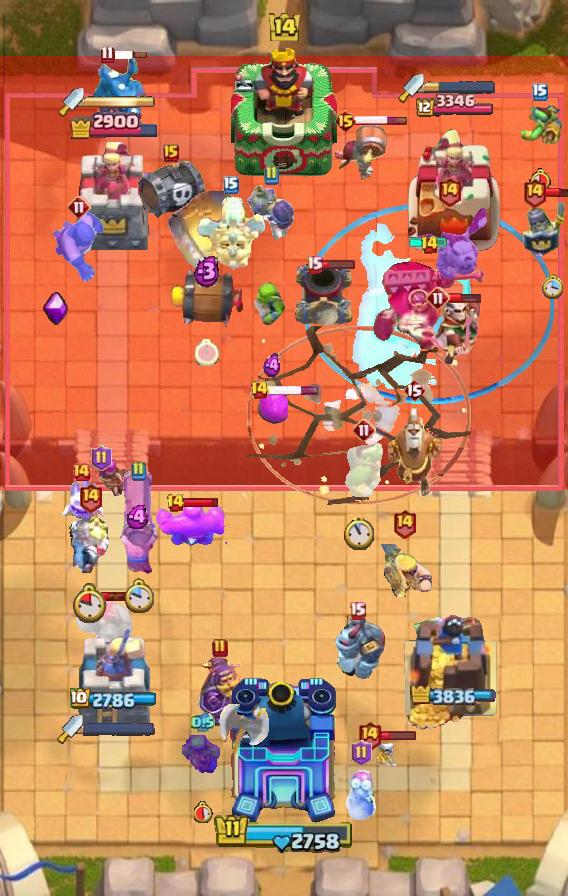archer: (90, 458, 136, 502)
axe: (218, 704, 270, 756)
bar: (354, 115, 408, 126), (267, 385, 320, 396), (380, 730, 417, 741), (183, 497, 220, 508), (448, 292, 481, 304), (320, 259, 356, 270), (100, 591, 135, 602), (112, 50, 148, 60), (544, 187, 568, 198)
bar-level: (357, 720, 382, 751), (392, 508, 417, 539), (78, 482, 103, 513), (522, 177, 547, 208), (437, 176, 462, 207), (352, 418, 376, 442), (426, 286, 450, 310), (67, 195, 91, 219), (334, 109, 357, 133), (351, 740, 372, 766), (91, 445, 112, 471), (403, 378, 425, 402), (71, 462, 91, 482), (166, 493, 185, 513), (250, 380, 269, 400), (420, 235, 439, 255), (349, 601, 366, 620), (306, 255, 323, 274), (212, 638, 228, 658), (130, 461, 146, 481), (263, 165, 279, 185), (223, 176, 239, 194), (163, 144, 179, 162), (532, 83, 548, 101), (100, 45, 115, 64)
barbarian-barrel: (167, 268, 247, 328)
barbarian-evolution: (376, 544, 432, 597)
bomber: (344, 770, 378, 822)
bomber-evolution: (244, 179, 298, 241)
clock: (73, 583, 107, 623), (123, 578, 154, 615), (344, 516, 374, 550), (195, 339, 219, 366), (542, 273, 565, 299), (529, 168, 552, 192), (194, 801, 213, 823)
dagger-duchess-tower: (403, 124, 503, 256), (73, 140, 155, 256), (75, 623, 153, 731)
dagger-duchess-tower-bar: (83, 722, 155, 736), (84, 95, 156, 109), (424, 80, 496, 94)
electro-dragon: (91, 51, 147, 127)
elixir: (193, 254, 221, 288), (126, 505, 151, 529), (191, 712, 215, 733), (263, 353, 282, 378)
elixir-golem-mid: (155, 499, 227, 549)
elixir-golem-small: (256, 394, 288, 424)
evolution-symbol: (42, 291, 68, 325)
executioner: (51, 209, 107, 283)
goblin: (251, 282, 291, 326)
goblin-brawler: (342, 441, 386, 497)
golemite: (75, 596, 139, 664)
guard: (520, 194, 568, 256)
ice-spirit-evolution: (59, 473, 103, 527)
king-tower: (228, 676, 340, 826), (231, 43, 337, 181)
king-tower-bar: (214, 813, 354, 854)
knight-evolution: (199, 657, 241, 727)
mega-minion: (327, 610, 387, 680)
mortar: (292, 261, 356, 327)
queen-tower: (402, 613, 505, 731)
royal-ghost: (69, 515, 111, 573)
skeleton: (373, 739, 401, 769)
spear-goblin: (516, 103, 564, 145), (182, 735, 224, 775)
tower-bar: (68, 110, 160, 139), (70, 688, 159, 711), (413, 94, 493, 119), (410, 686, 497, 705)
wall-breaker: (332, 122, 388, 182)
